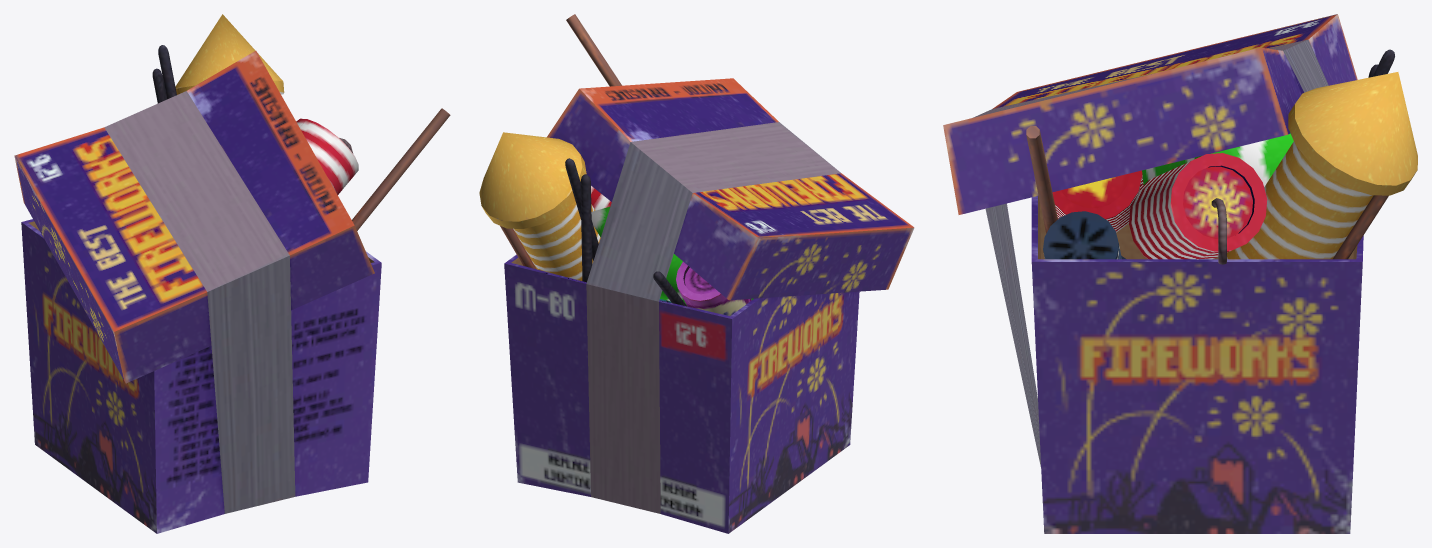
3 renders of one model, left to right at view 1: azimuth 30°, elevation 25°; view 2: azimuth 150°, elevation 25°; view 3: azimuth 270°, elevation 25°, orthographic. The views are drawn at different scales.
Visible parts, largest first — view 1: fireworks; view 2: fireworks; view 3: fireworks.
Part boxes in pixels (x1=…): fireworks: x1=14, y1=14, x2=450, y2=533; fireworks: x1=479, y1=14, x2=914, y2=533; fireworks: x1=943, y1=14, x2=1417, y2=533.
Size of the model in its own units: 4027 by 4220 by 3859.
1 material, 1 textured.
